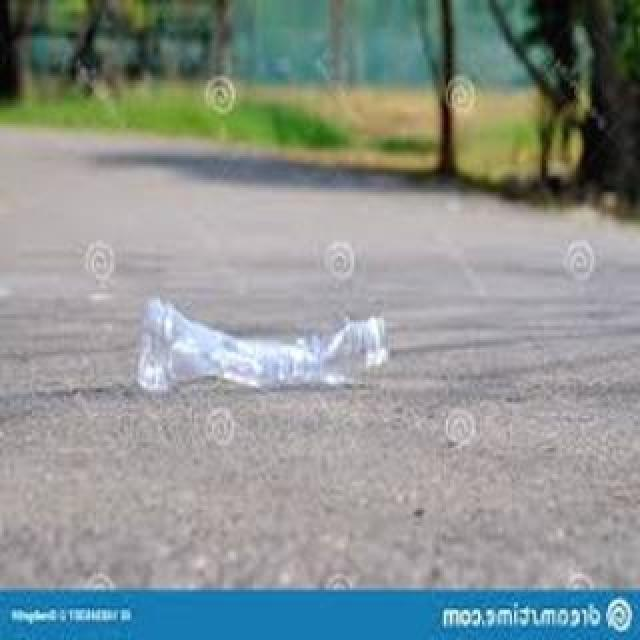Pet_Bottle: (130, 292, 398, 404)
